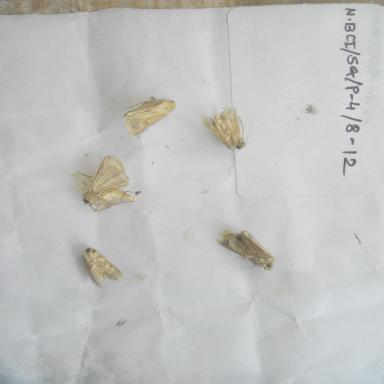abw: (62, 148, 148, 218), (210, 222, 281, 276), (194, 98, 259, 156), (116, 90, 184, 142), (72, 238, 129, 295)
